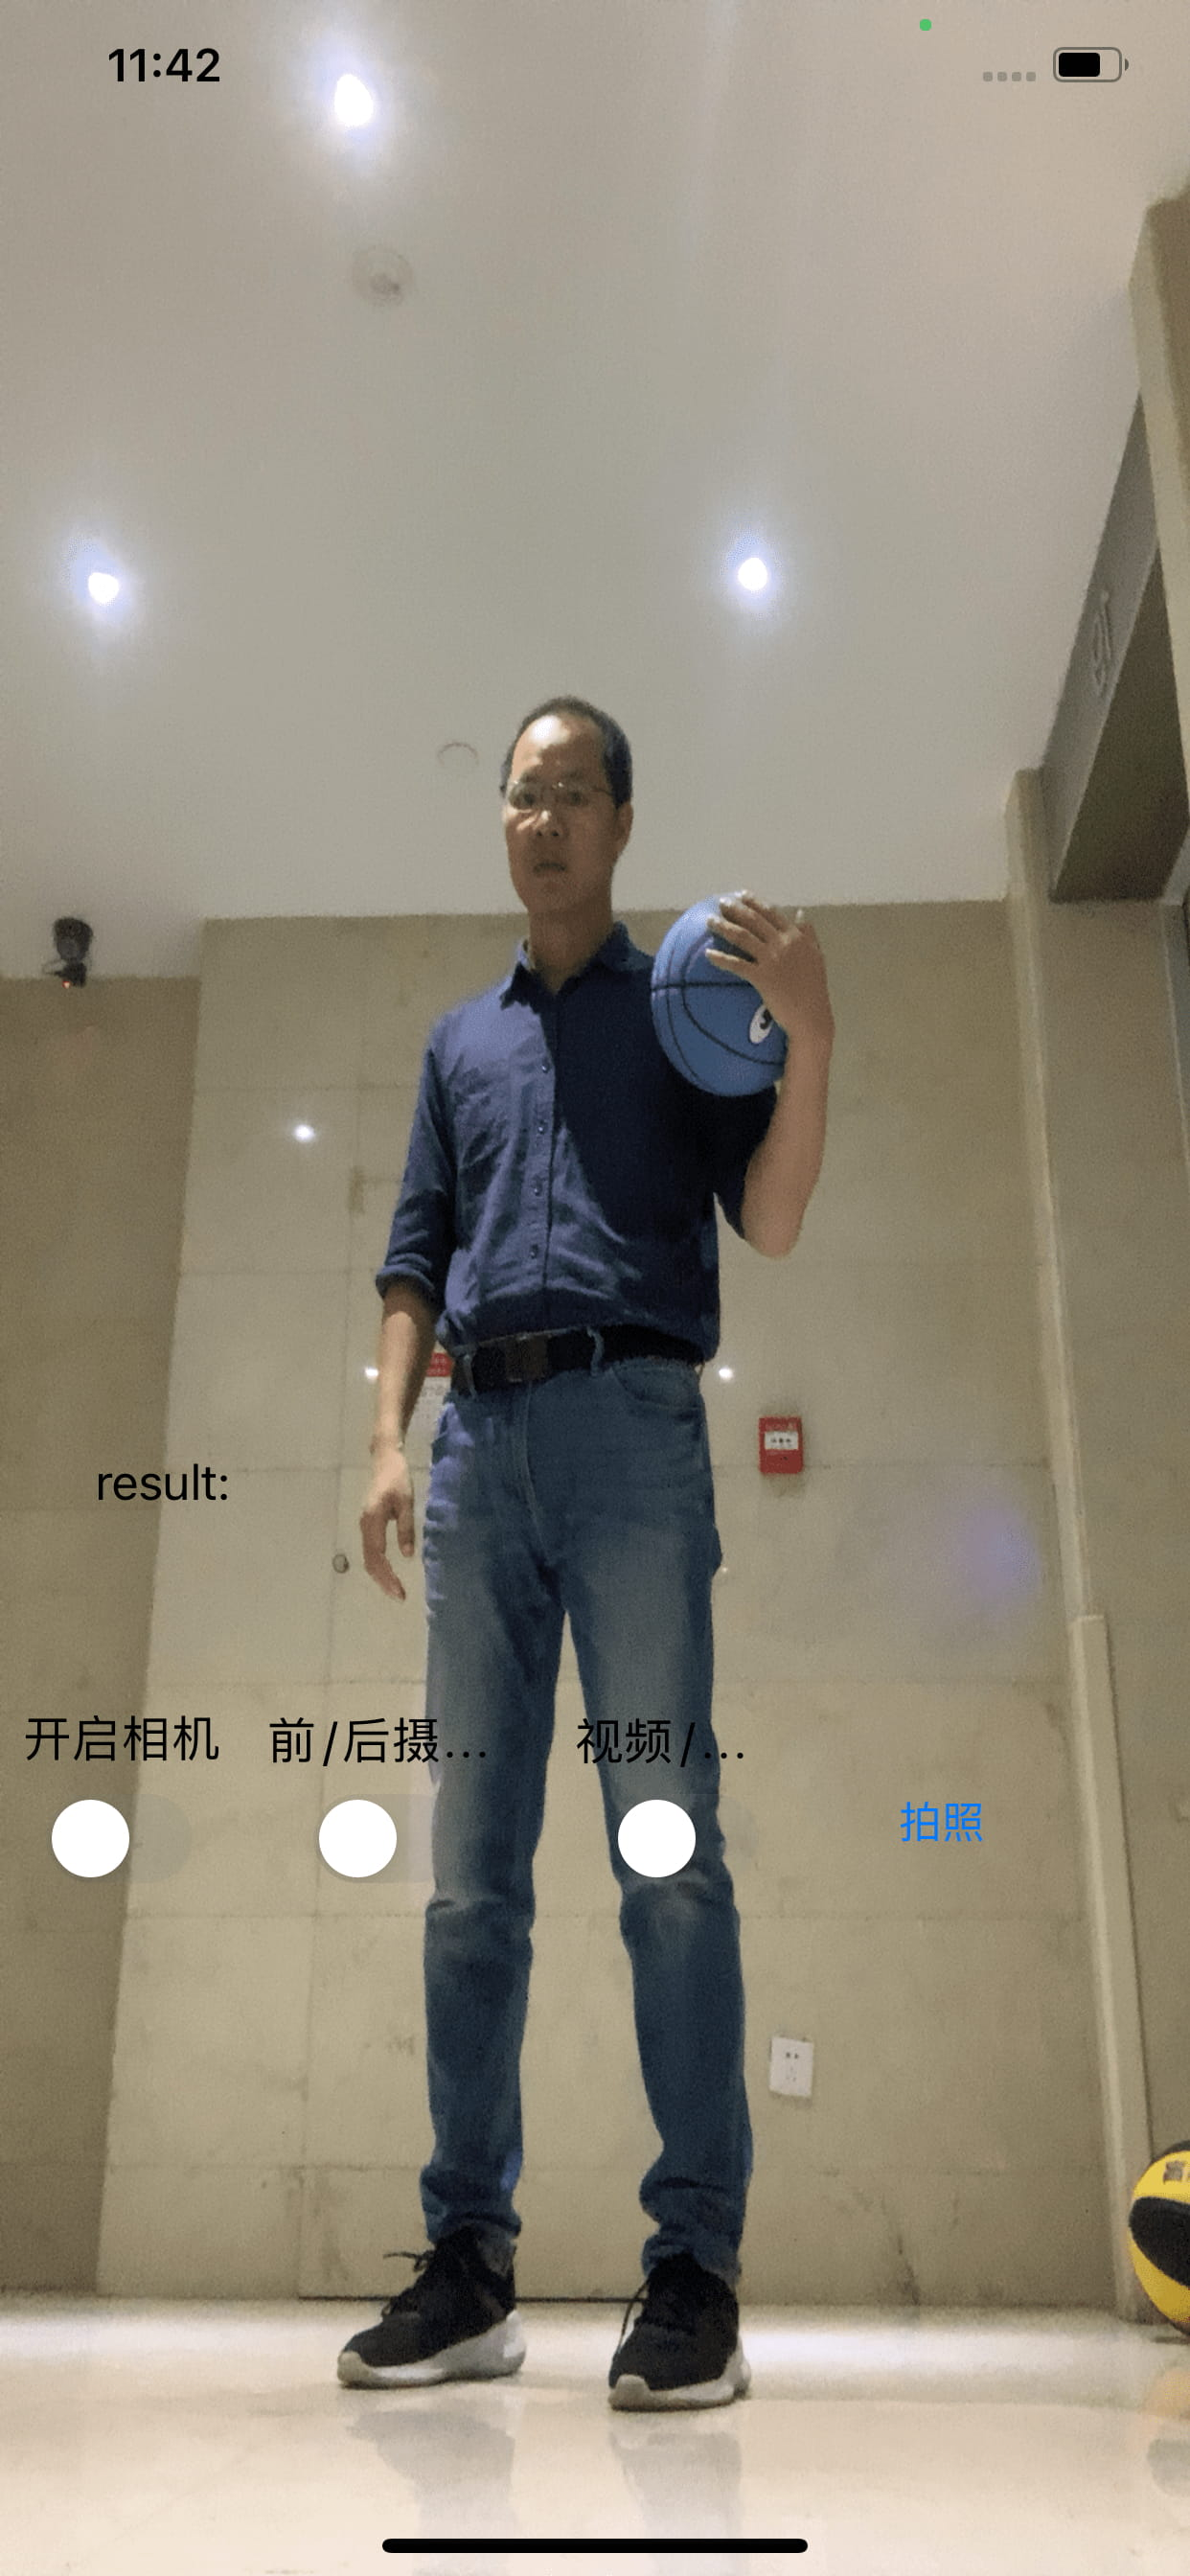ball: (653, 894, 810, 1101)
